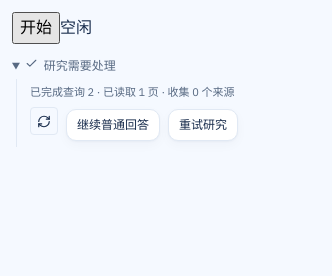
durable research response › requires an explicit choice when research failed
expect the heading "研究需要处理" is shown: met, box [25,57,116,73]
Click the button "继续普通回答" at (113, 125), box [66,109,160,141]
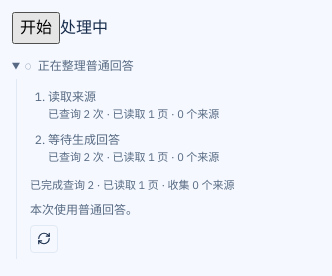
expect the heading "◌ 正在整理普通回答" is shown: met, box [25,58,134,73]
